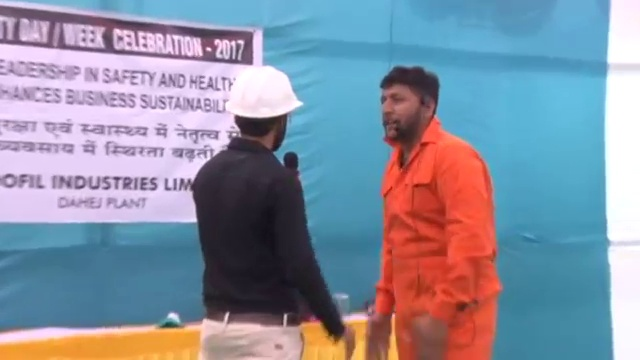helmet: (222, 65, 305, 118)
helmet_off: (375, 64, 439, 143)
helmet_on: (221, 64, 305, 152)
person: (194, 63, 359, 360), (361, 53, 509, 360)
